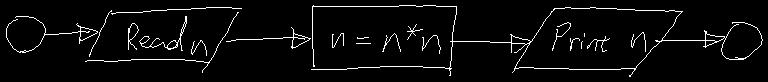arrow: (226, 27, 310, 48), (450, 34, 531, 52), (655, 30, 724, 47), (44, 23, 97, 43)
connection: (721, 22, 762, 59), (6, 16, 45, 52)
data: (512, 7, 682, 76), (85, 7, 241, 72)
process: (311, 5, 456, 75)
text: (332, 24, 440, 53), (128, 16, 206, 55), (552, 22, 645, 51)
